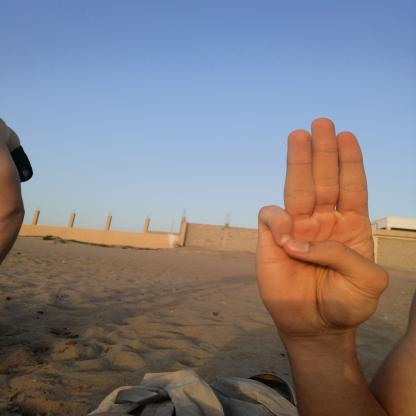THA: (240, 104, 404, 352)
